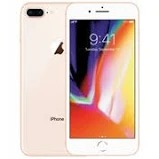iphone: (63, 1, 140, 158)
iphone8: (62, 1, 139, 159)
